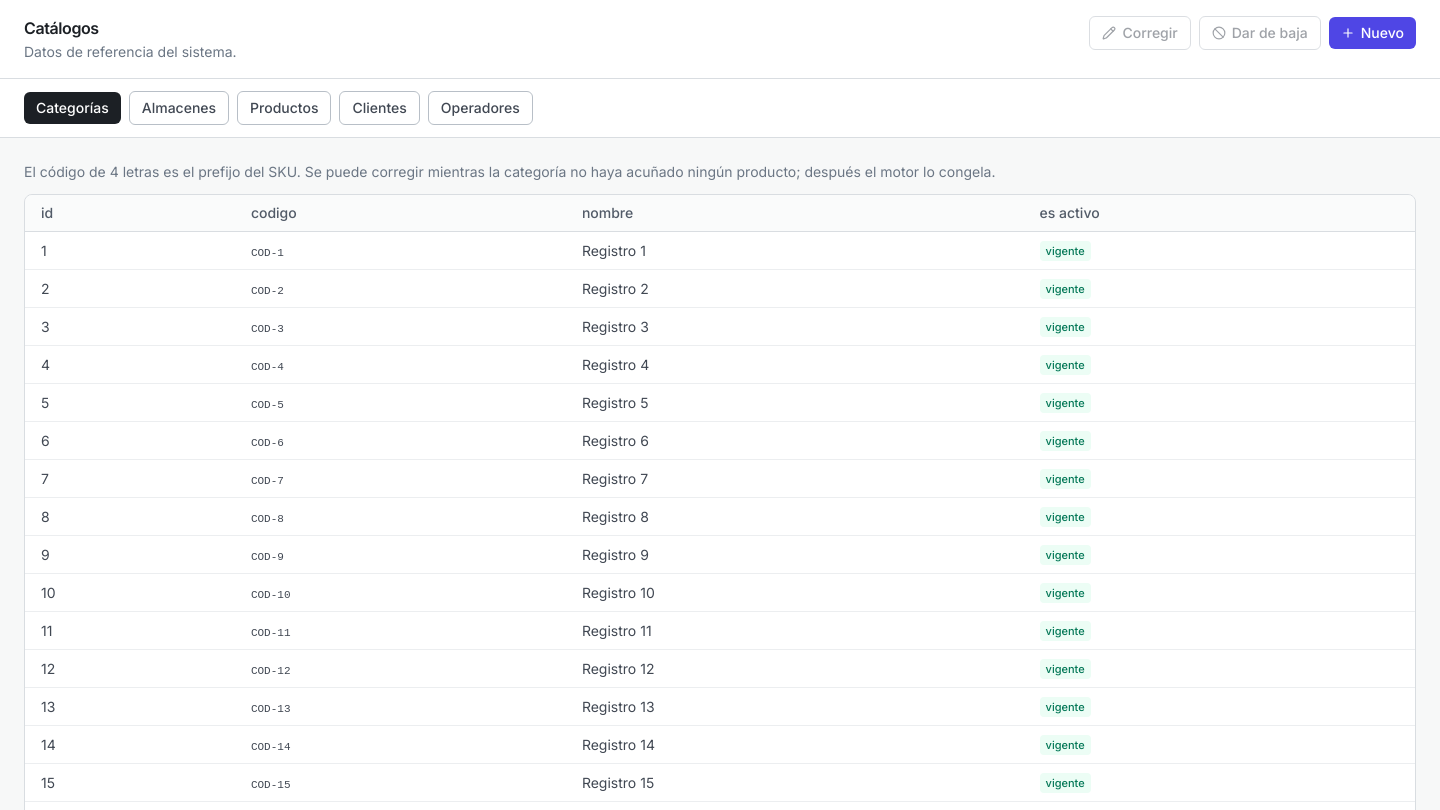
Scenario: Catalogos - baja logica y reactivacion › explica por que el operador SISTEMA no se puede dar de baja
This screenshot has width=1440, height=810.
Click the button "Operadores". click: x=480, y=108
box: [428,91,533,125]
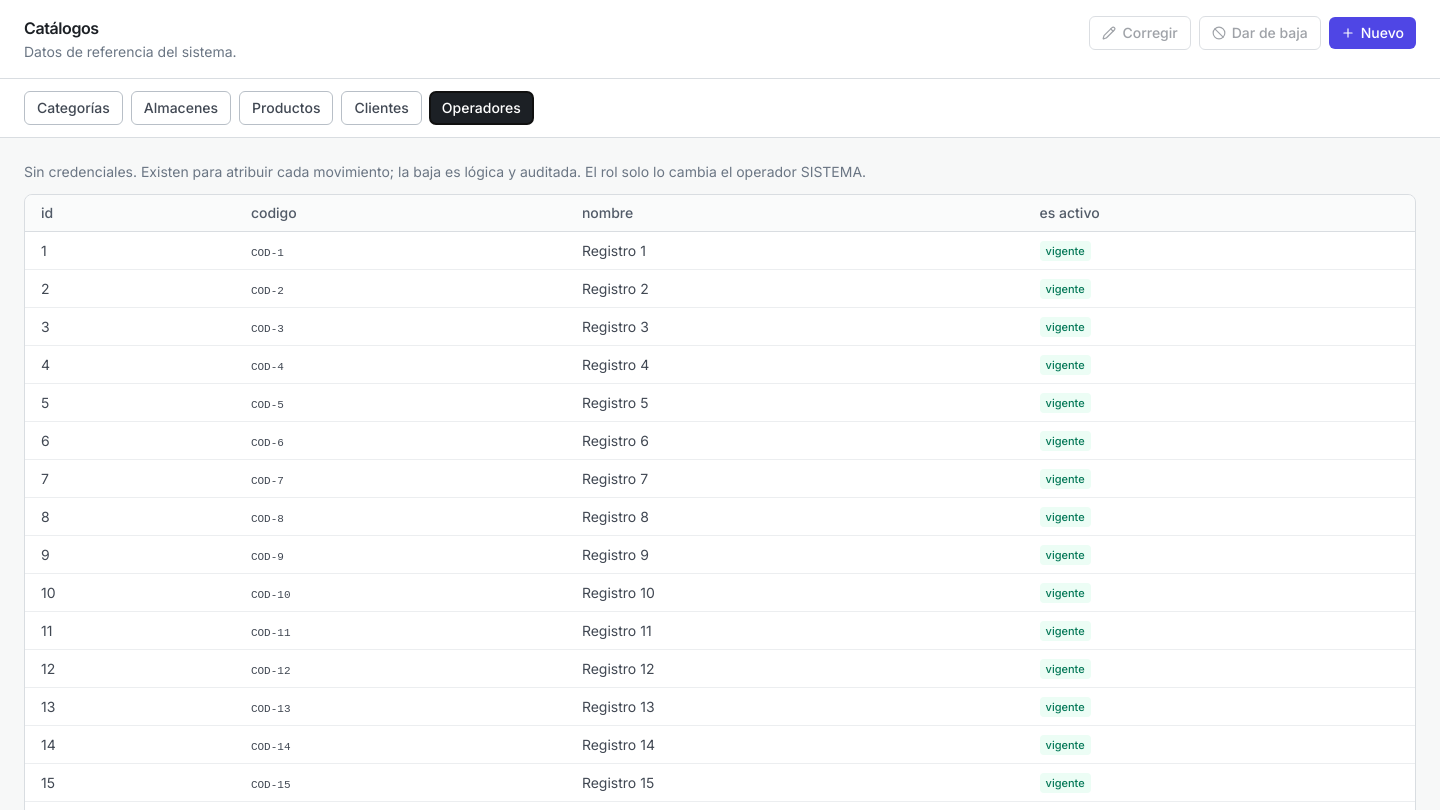
Click the text "Registro 1". click: x=614, y=250
box: [566,232,1024,270]
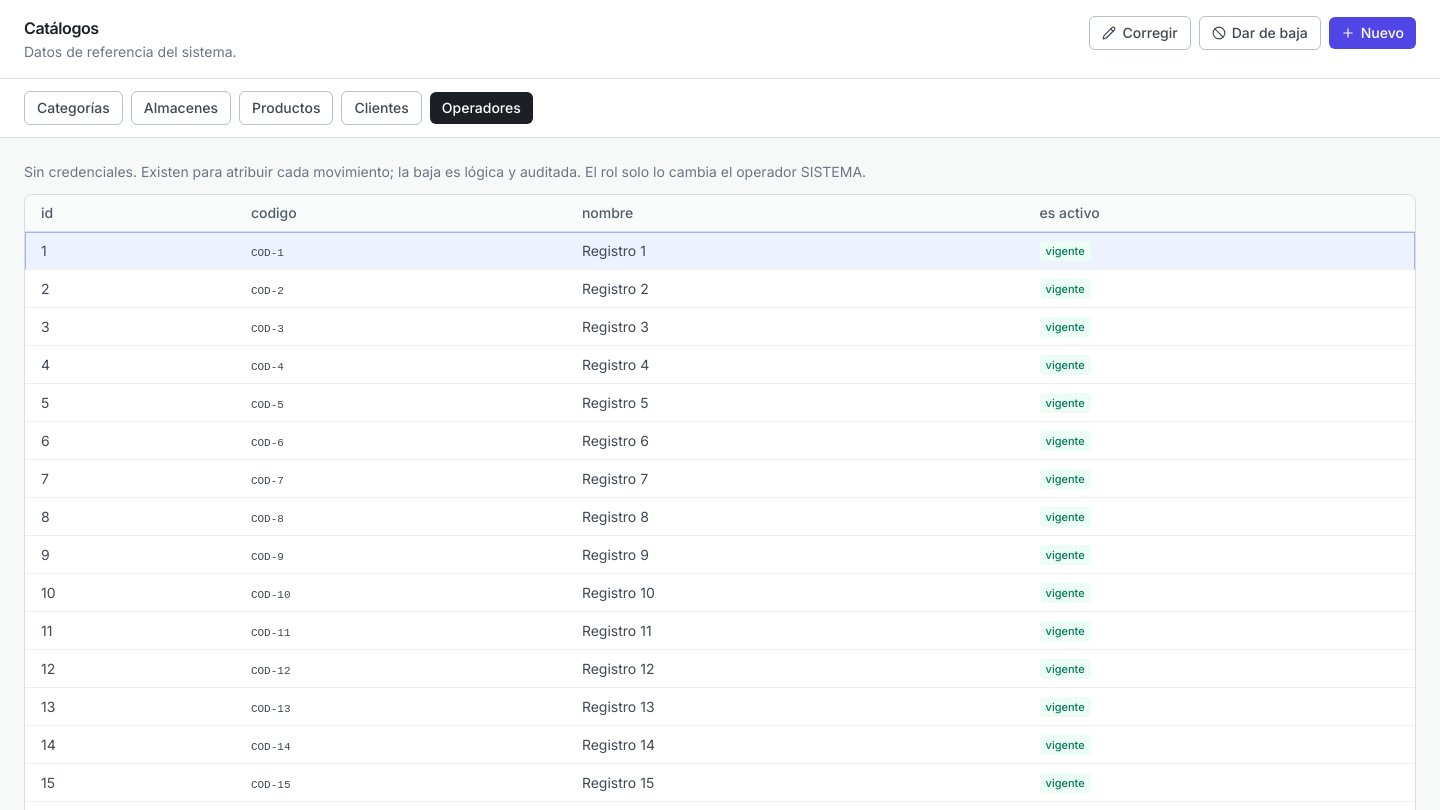
Click the button "Dar de baja". click: x=1260, y=33
box: [1199,16,1321,50]
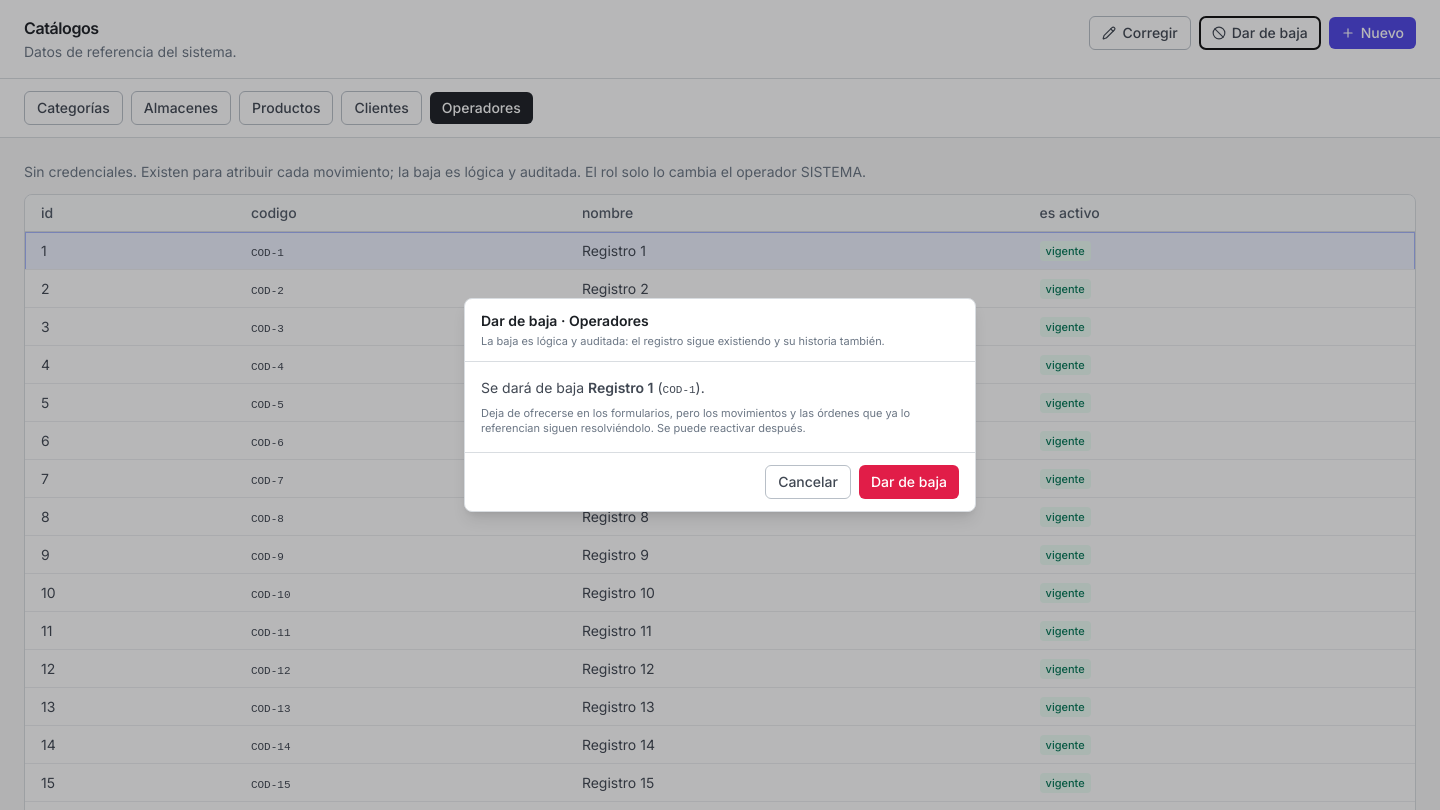
Click the button "Dar de baja". click: x=909, y=482
box: [859,465,959,499]
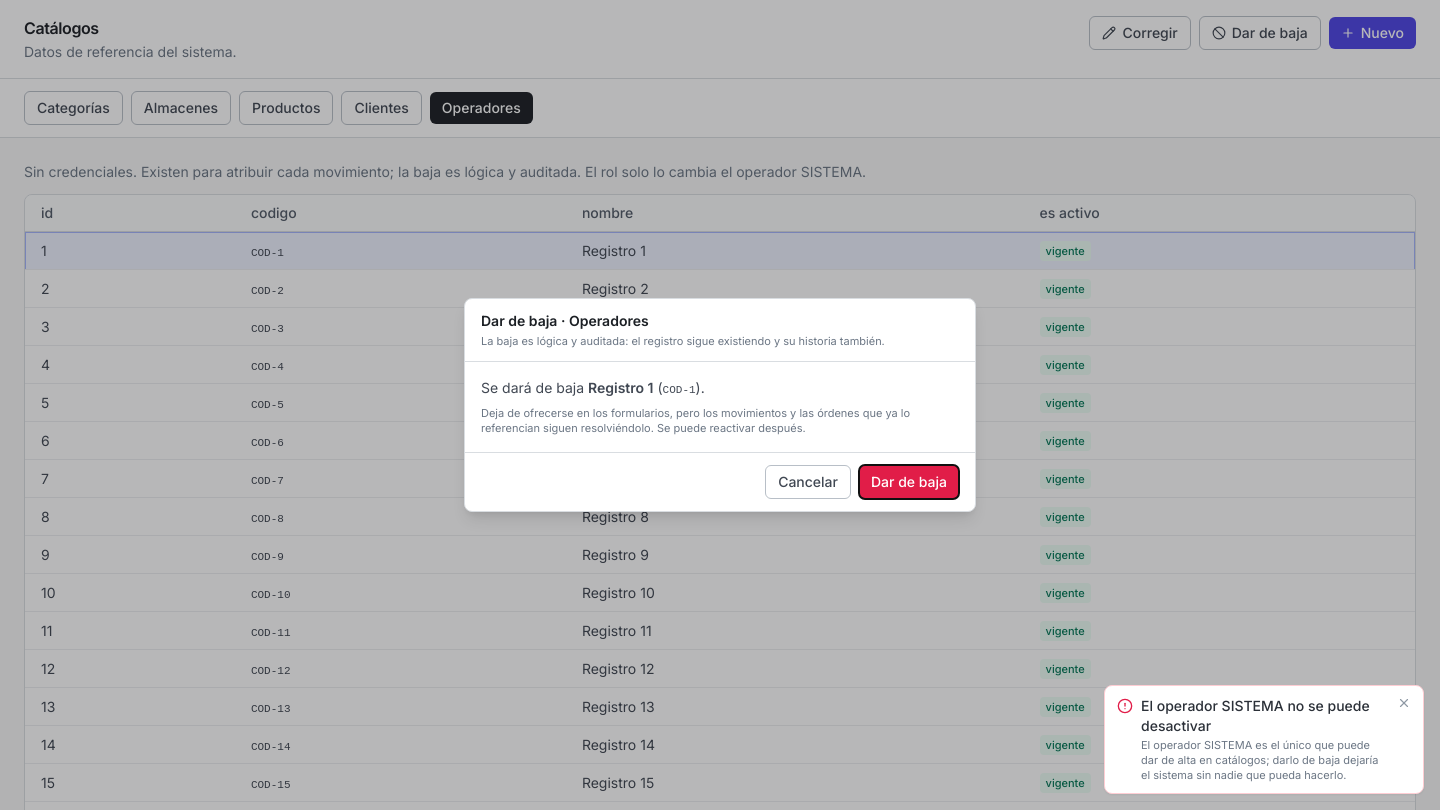
Check: the text "sin nadie que pueda hacerlo" is shown, box [1141,738,1378,782]
